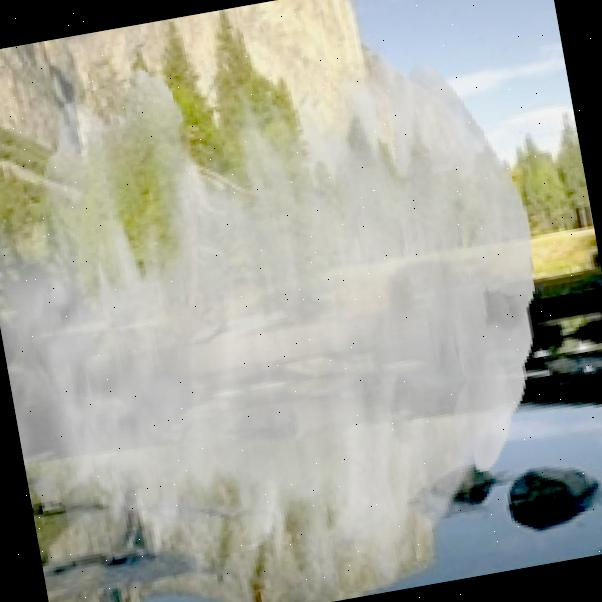smoke: (0, 6, 588, 602)
